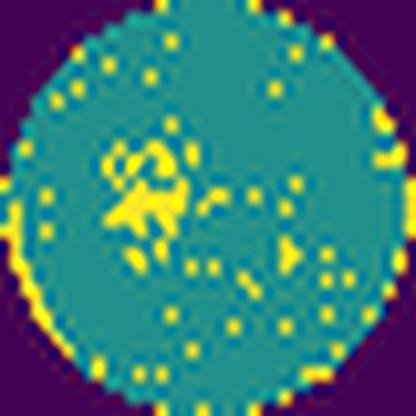Loc: (99, 178, 193, 237), (96, 139, 178, 185)
